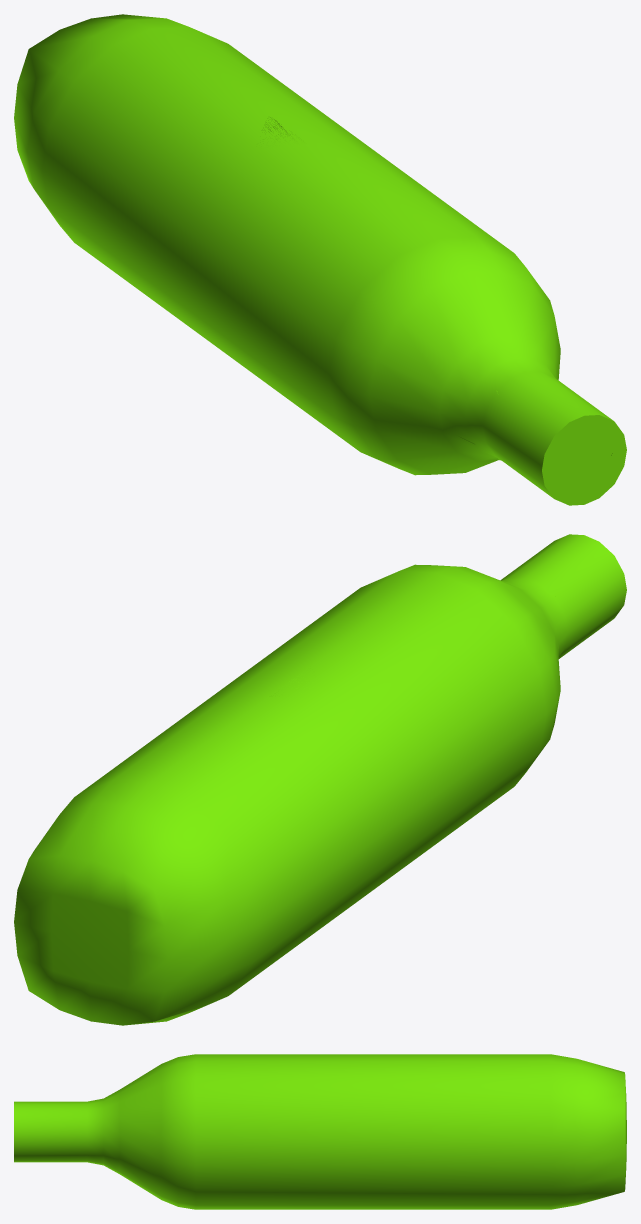
Rendered from TEST3_glass_bottle_broken.fbx.
3 views of the same model, one above another, from view 1: azimuth 30°, elevation 25°; view 2: azimuth 150°, elevation 25°; view 3: azimuth 270°, elevation 25° (orthographic). The views are drawn at different scales.
Parts seen in each view (by area): view 1: co2_cartridge, co2_cartridge_cell.004; view 2: co2_cartridge; view 3: co2_cartridge.
Part boxes in pixels (x1,y1,x2,y2): co2_cartridge: [14, 14, 626, 505]; co2_cartridge_cell.004: [456, 391, 614, 498]; co2_cartridge: [14, 534, 626, 1025]; co2_cartridge: [14, 1054, 626, 1209].
Size of the model in its own units: 2.13 by 2.13 by 8.36.
